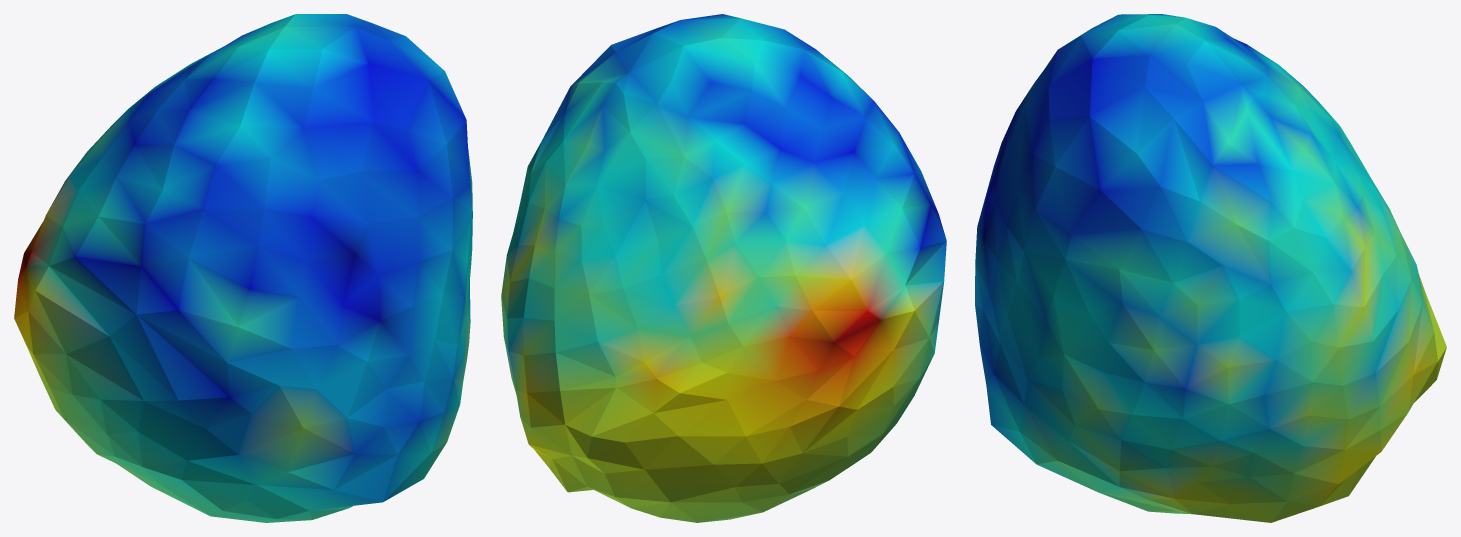
The model's file is heartwithColor109.obj.
3 views of the same model, side by side, from view 1: azimuth 30°, elevation 25°; view 2: azimuth 150°, elevation 25°; view 3: azimuth 270°, elevation 25° (orthographic). The views are drawn at different scales.
Bounding box in the file's own units: 71.7 × 81.16 × 72.94.
